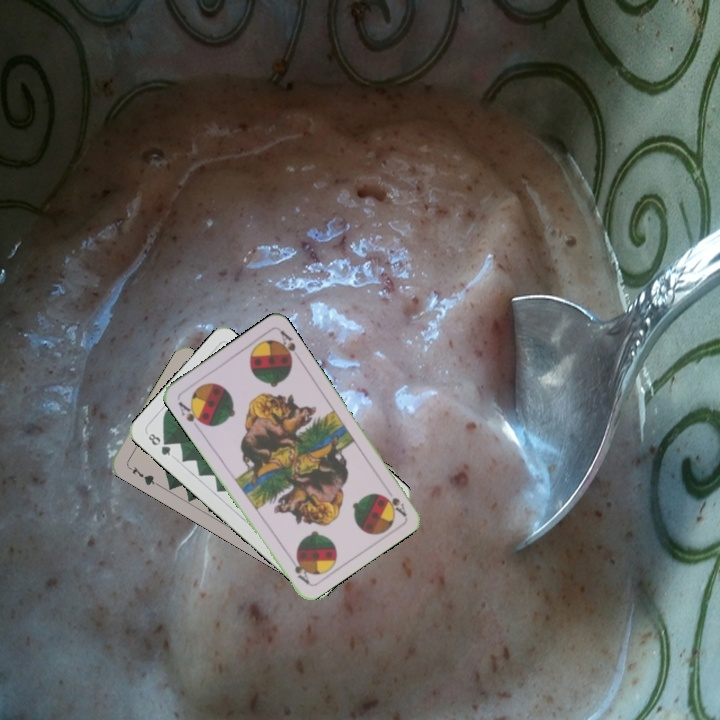G7: (124, 462, 160, 488)
G8: (143, 429, 174, 458)
SA: (174, 397, 207, 432), (379, 482, 409, 519)
